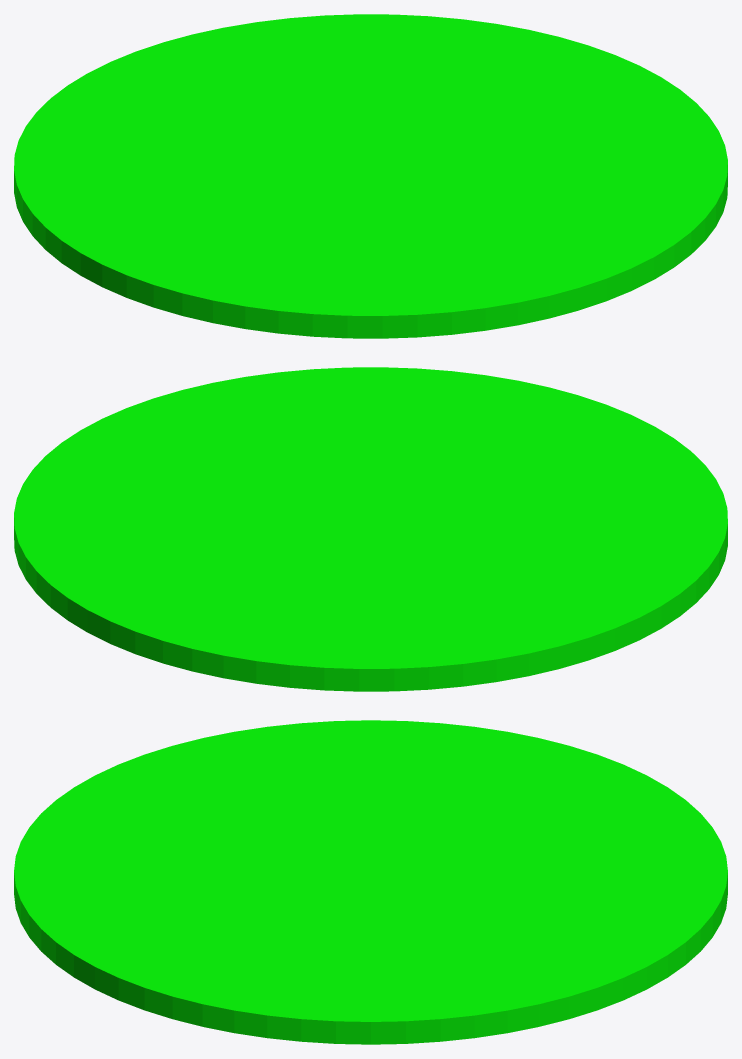
The model's file is board.glb.
3 views of the same model, one above another, from view 1: azimuth 30°, elevation 25°; view 2: azimuth 150°, elevation 25°; view 3: azimuth 270°, elevation 25° (orthographic).
Parts seen in each view (by area): view 1: Contact_0; view 2: Contact_0; view 3: Contact_0.
Boxes of the visible parts, x1,y1,x2,y2 form: Contact_0: (14, 14, 727, 338); Contact_0: (14, 367, 727, 691); Contact_0: (14, 720, 727, 1044).
Size of the model in its own units: 0.001 by 3.5e-05 by 0.001.
